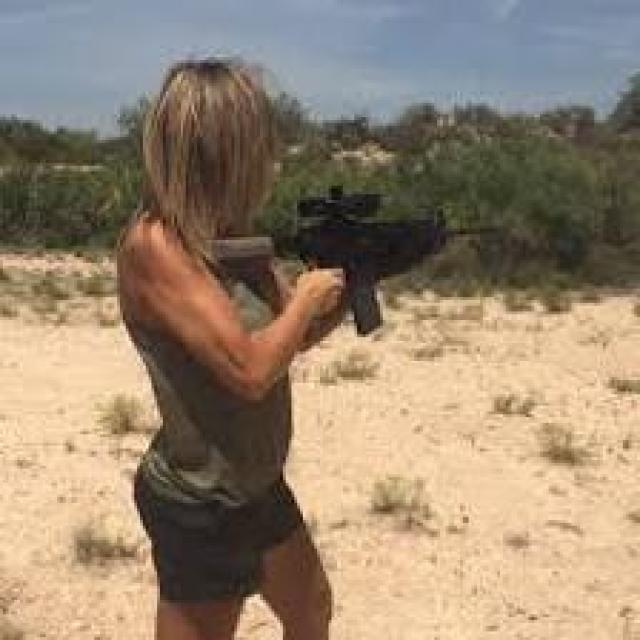Rifle: (194, 180, 497, 344)
